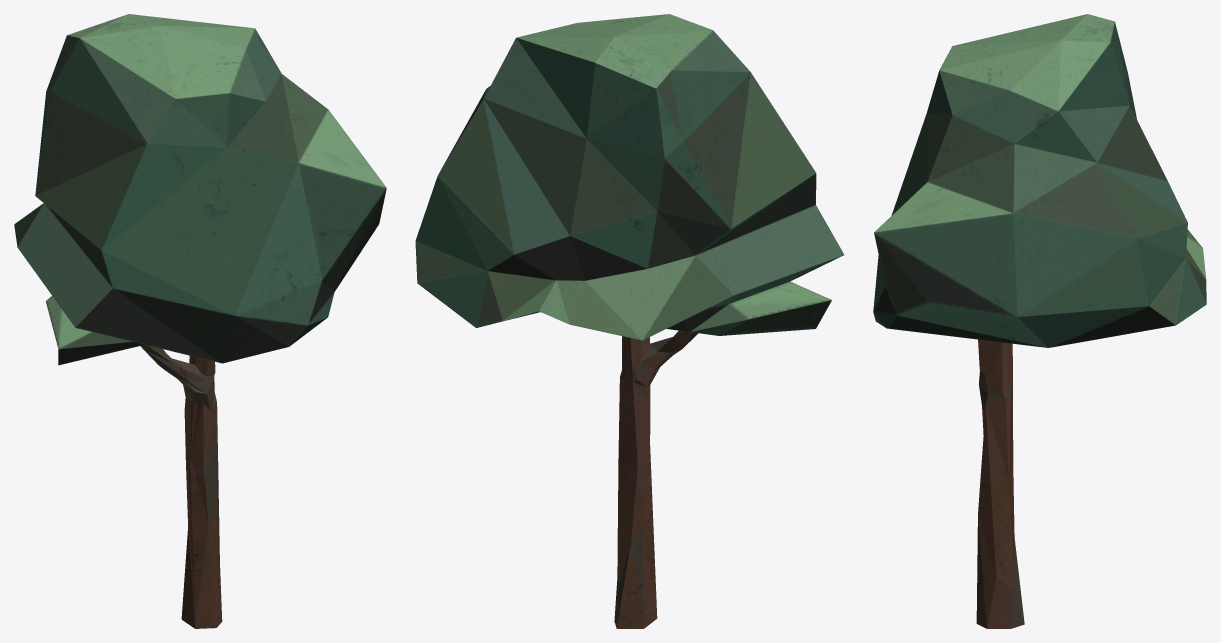
Rendered from tree2.fbx.
3 views of the same model, side by side, from view 1: azimuth 30°, elevation 25°; view 2: azimuth 150°, elevation 25°; view 3: azimuth 270°, elevation 25° (orthographic). The views are drawn at different scales.
Visible parts, largest first — view 1: node_id219; view 2: node_id219; view 3: node_id219.
Boxes of the visible parts, box(x1,y1,x2,y2) form: node_id219: box(14, 14, 386, 628); node_id219: box(415, 14, 844, 628); node_id219: box(873, 14, 1206, 628).
Bounding box in the file's own units: 0.8094 × 1.36 × 0.7127.
Materials: 1 (1 with a texture image).
